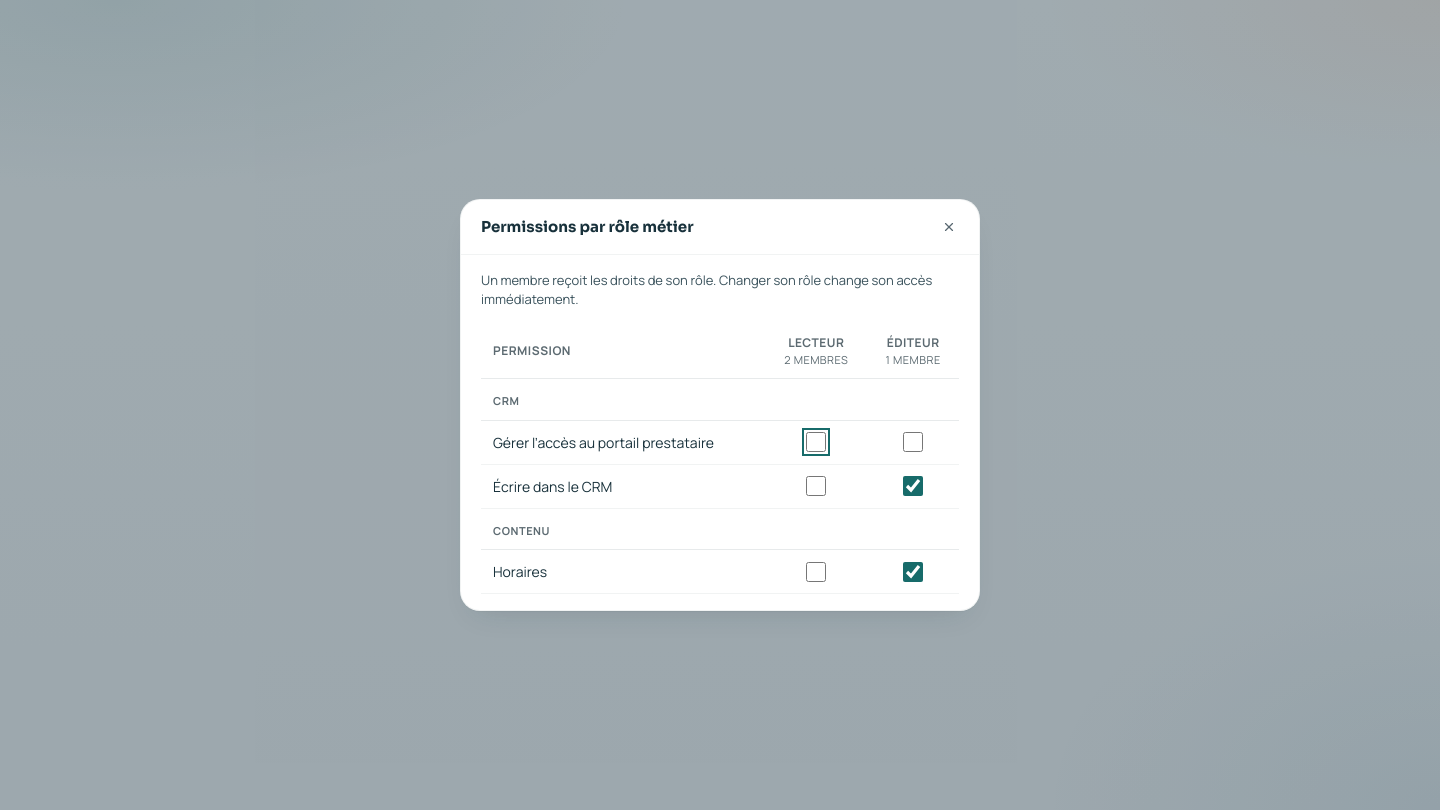
Test: OrgRolePermissionsModal › cocher n’écrit rien : une confirmation nomme d’abord les membres impactés
Click the checkbox named "Écrire dans le CRM — Lecteur".
click(816, 486)  # box [806,476,826,496]
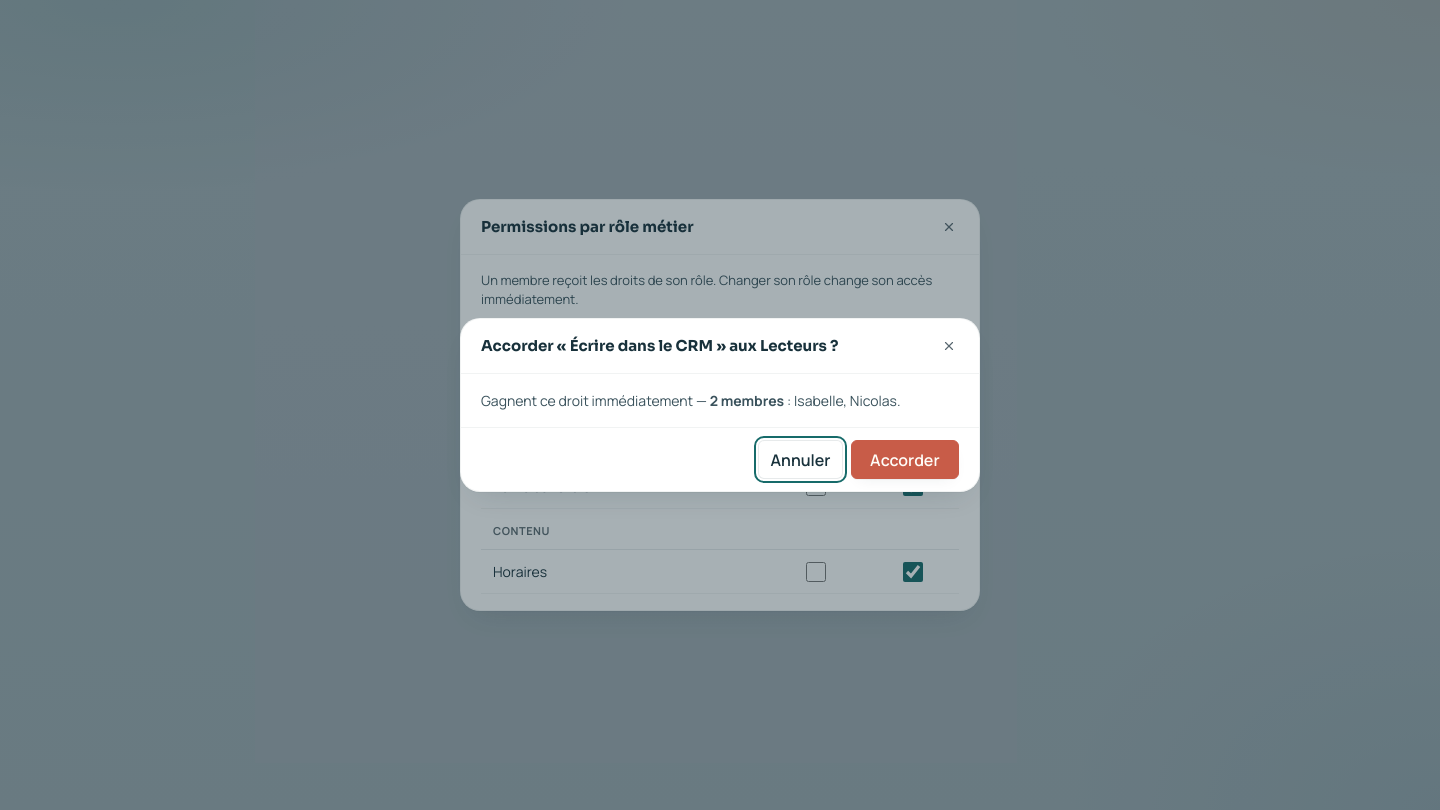
Expected: the text "Isabelle, Nicolas" is shown, [794,391,897,410]
Expected: the text "Gagnent ce droit immédiatement" is shown, [481,390,959,411]
Expected: the text "2 membres" is shown, [710,391,784,410]
